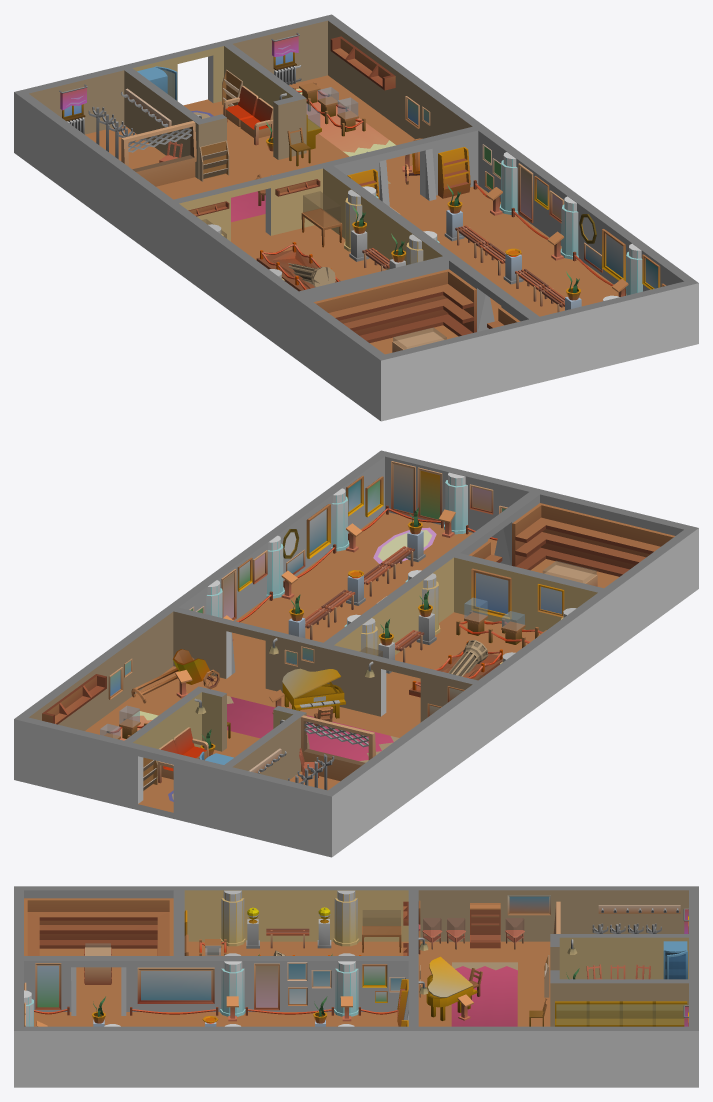
File: MUSEUM_location.fbx
3 renders of one model, top to bottom at view 1: azimuth 30°, elevation 25°; view 2: azimuth 150°, elevation 25°; view 3: azimuth 270°, elevation 25°, orthographic. The views are drawn at different scales.
Visible parts, largest first — view 1: КОМНАТА, КОМНАТА.001, Circle.010, Cube.068, Cube.038, Plane.031, Cylinder.005, Cube.028, Cube, Cube.063, Cube.031, Cube.110 (+8 smaller); view 2: КОМНАТА, КОМНАТА.001, Circle.010, Plane, painting_1.016, painting_2.006, Cube.068, Plane.008, Cube.030, Cylinder.005, Circle.043, Cube.031 (+9 smaller); view 3: КОМНАТА, КОМНАТА.001, Plane, Cube.004, painting_2.005, Circle.010, Circle.038, Plane.008, Cube.044, painting_2.007, painting_2.004, painting_1.012 (+16 smaller).
Part boxes in pixels (<box>): КОМНАТА: <box>14,14,698,421</box>; КОМНАТА.001: <box>314,269,520,342</box>; Circle.010: <box>362,152,642,301</box>; Cube.068: <box>121,121,196,186</box>; Cube.038: <box>59,32,301,134</box>; Plane.031: <box>296,88,395,156</box>; Cylinder.005: <box>256,242,340,291</box>; Cube.028: <box>223,85,273,145</box>; Cube: <box>293,82,365,136</box>; Cube.063: <box>438,147,470,198</box>; Cube.031: <box>330,36,395,90</box>; Cube.110: <box>301,191,342,247</box>; КОМНАТА: <box>14,450,698,857</box>; КОМНАТА.001: <box>469,503,674,576</box>; Circle.010: <box>206,472,468,626</box>; Plane: <box>227,696,399,762</box>; painting_1.016: <box>471,568,564,619</box>; painting_2.006: <box>391,461,442,520</box>; Cube.068: <box>301,715,375,781</box>; Plane.008: <box>282,668,345,718</box>; Cube.030: <box>456,597,546,647</box>; Cylinder.005: <box>409,640,502,697</box>; Circle.043: <box>131,649,219,703</box>; Cube.031: <box>42,674,106,724</box>; КОМНАТА: <box>14,886,698,1087</box>; КОМНАТА.001: <box>24,898,173,955</box>; Plane: <box>451,962,517,1026</box>; Cube.004: <box>555,1001,687,1026</box>; painting_2.005: <box>137,967,214,1003</box>; Circle.010: <box>24,961,358,1026</box>; Circle.038: <box>220,890,359,955</box>; Plane.008: <box>426,956,477,1020</box>; Cube.044: <box>470,903,500,948</box>; painting_2.007: <box>35,963,61,1009</box>; painting_2.004: <box>254,963,279,1010</box>; painting_1.012: <box>287,962,331,1005</box>.
Bounding box in the file's own units: 1600 × 293 × 3200.
